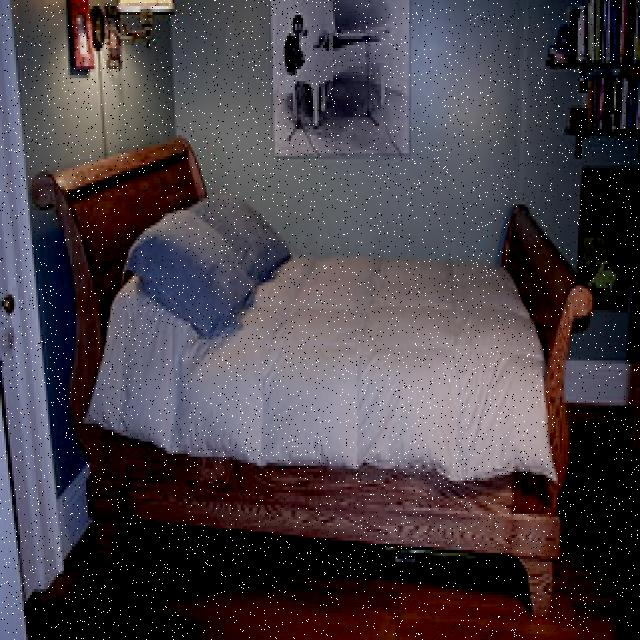bed: (51, 162, 573, 540)
